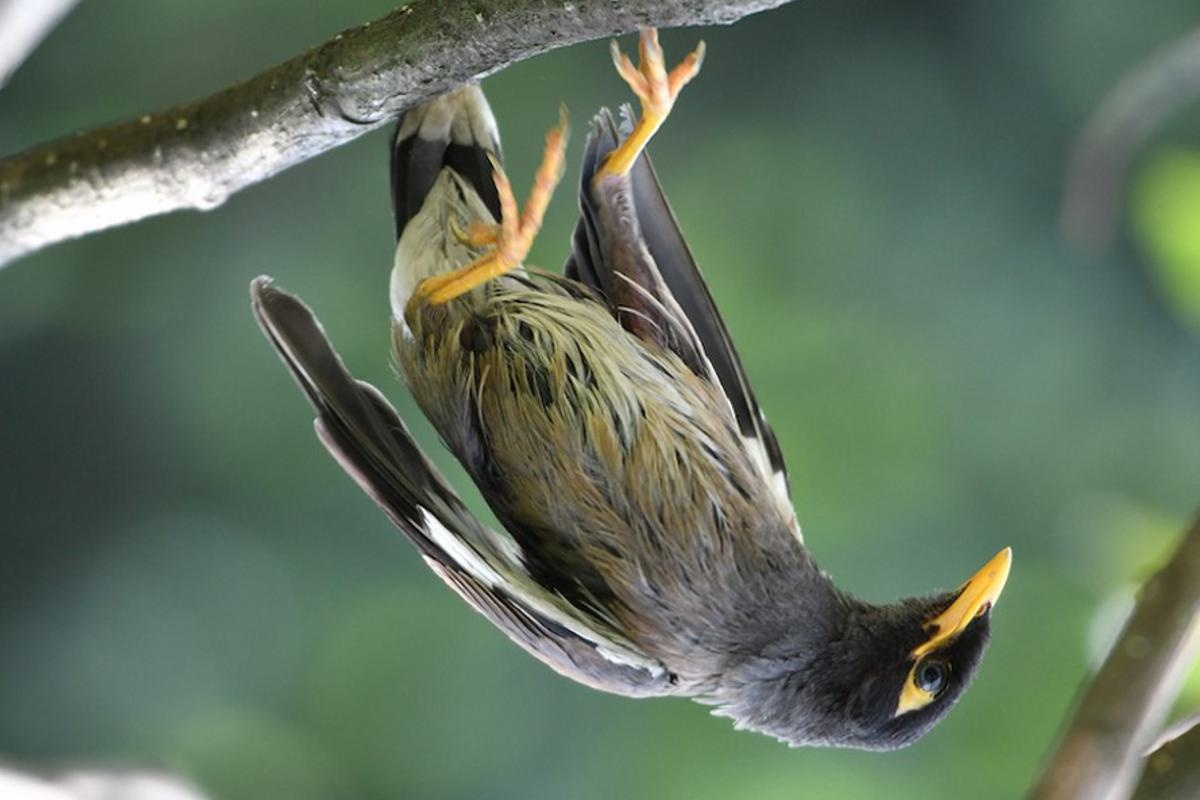myna: (233, 108, 1021, 770)
